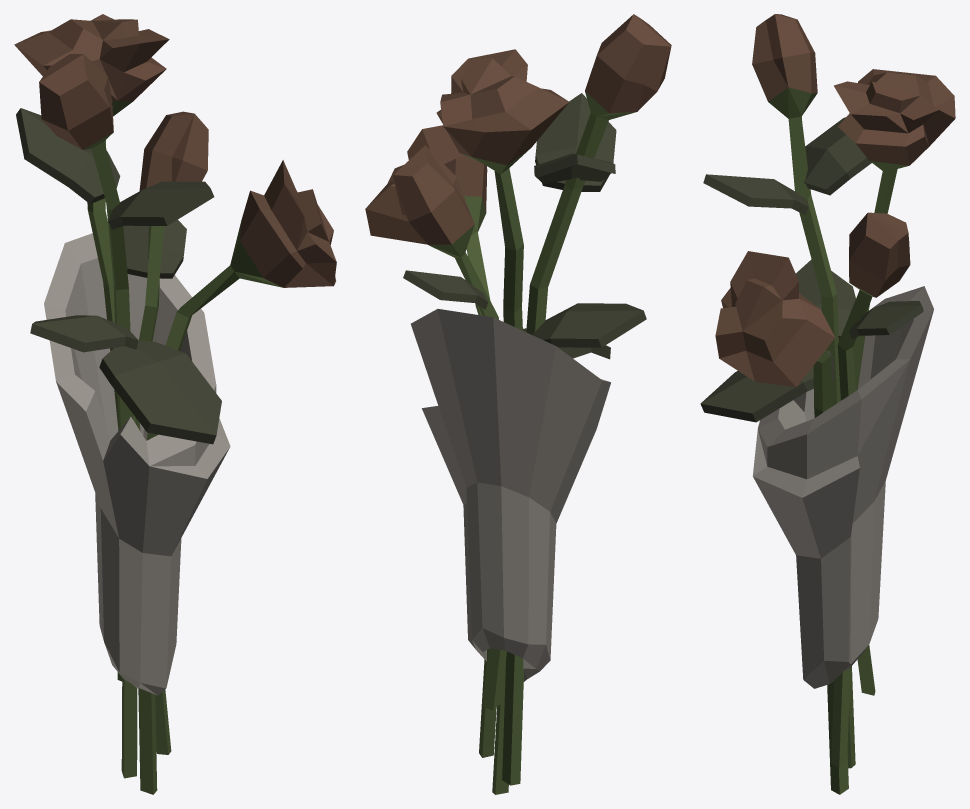
Rendered from SM_Prop_Flowers_01.fbx.
3 renders of one model, left to right at view 1: azimuth 30°, elevation 25°; view 2: azimuth 150°, elevation 25°; view 3: azimuth 270°, elevation 25°, orthographic. The views are drawn at different scales.
Visible parts, largest first — view 1: SM_Prop_Flowers_01; view 2: SM_Prop_Flowers_01; view 3: SM_Prop_Flowers_01.
Boxes of the visible parts, box(x1,y1,x2,y2) form: SM_Prop_Flowers_01: box(14, 14, 336, 794); SM_Prop_Flowers_01: box(365, 14, 671, 794); SM_Prop_Flowers_01: box(700, 14, 955, 794).
Size of the model in its own units: 23.07 by 58.72 by 18.56.
